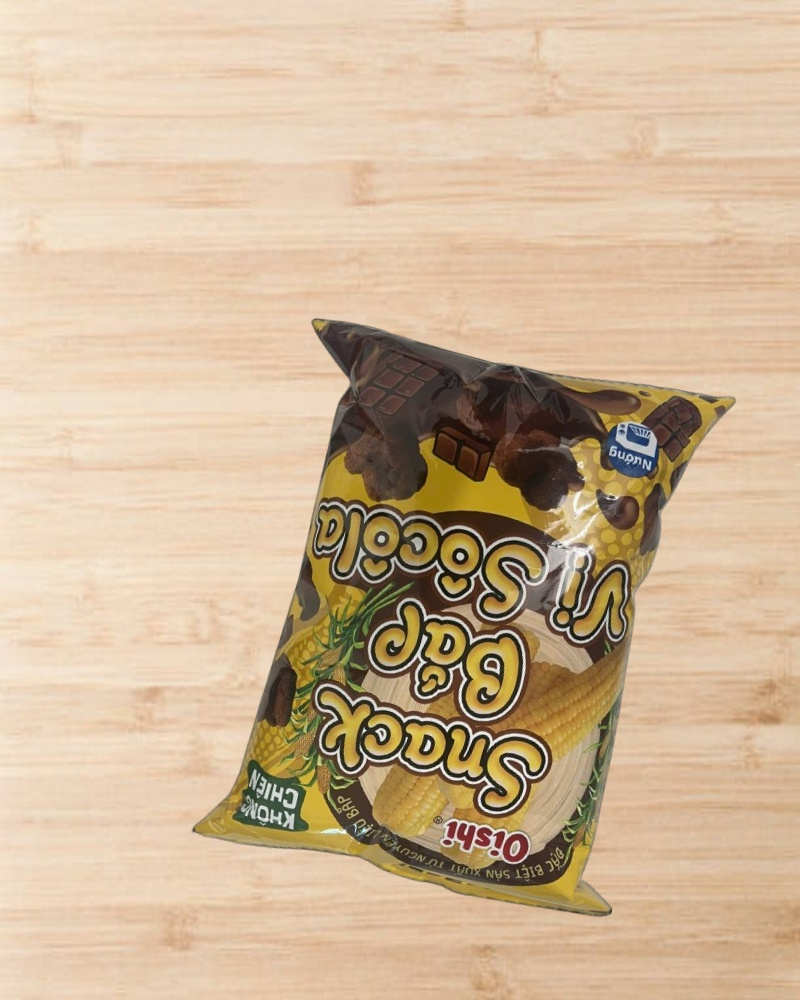Snack socola: (178, 291, 747, 942)
